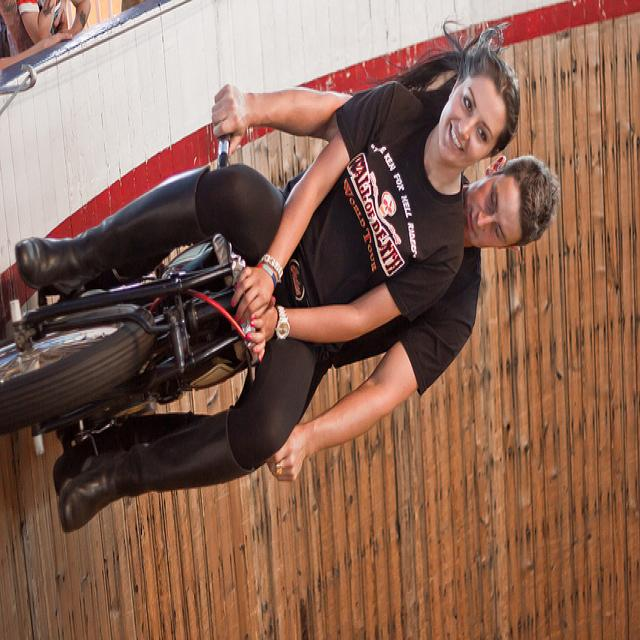motor: (0, 142, 262, 455)
